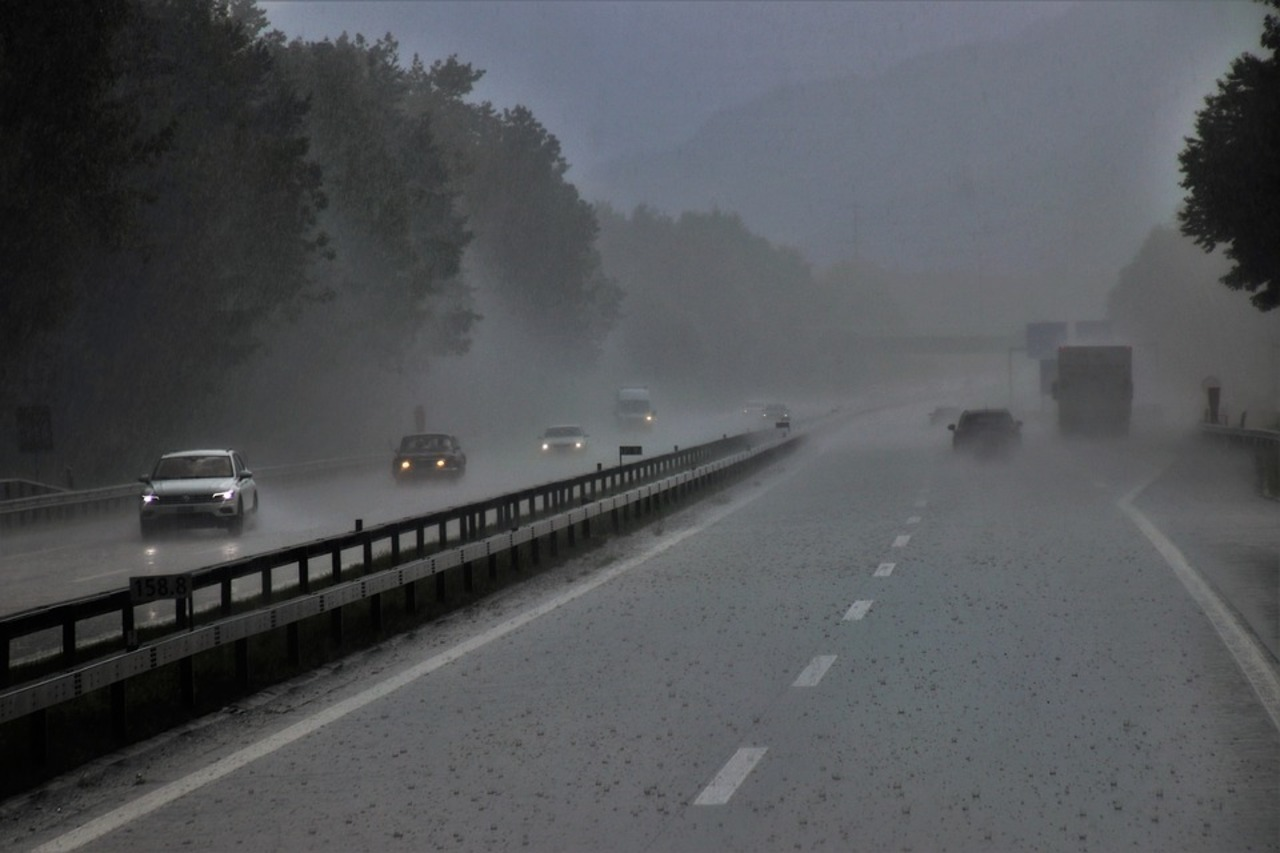car: (141, 447, 258, 530), (391, 432, 468, 484), (947, 410, 1025, 457), (534, 422, 590, 456), (616, 388, 656, 431)
truck: (1052, 342, 1131, 439)
